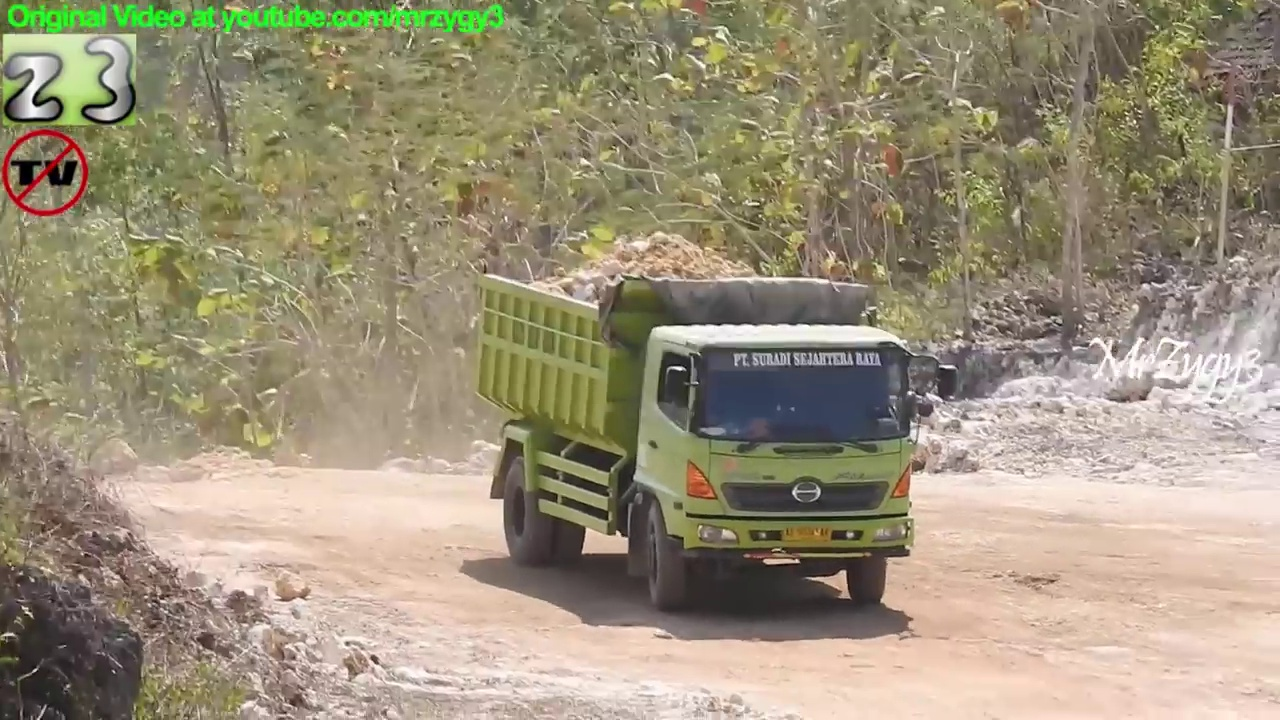truck: (469, 261, 964, 612)
